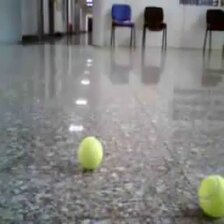tennis: (197, 174, 224, 217), (76, 136, 103, 169)
